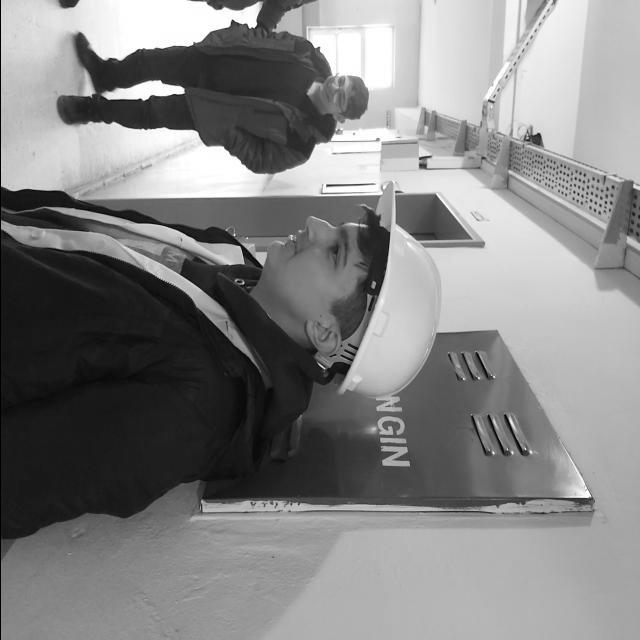construction helmet: (332, 182, 440, 400)
